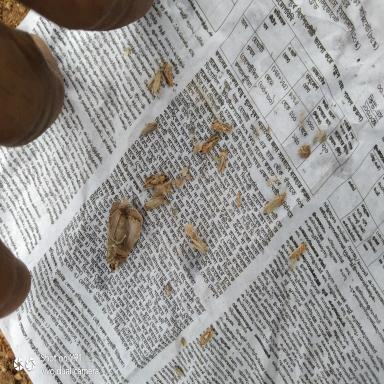abw: (101, 197, 143, 273)
pbw: (263, 184, 292, 213), (141, 165, 169, 190), (288, 243, 309, 272), (155, 57, 174, 87), (199, 133, 219, 158), (195, 326, 214, 352), (210, 116, 232, 134), (152, 70, 164, 100), (189, 235, 208, 253), (144, 198, 164, 212), (218, 149, 227, 174), (140, 122, 158, 134), (147, 73, 155, 90), (173, 365, 184, 376), (237, 191, 240, 206)
